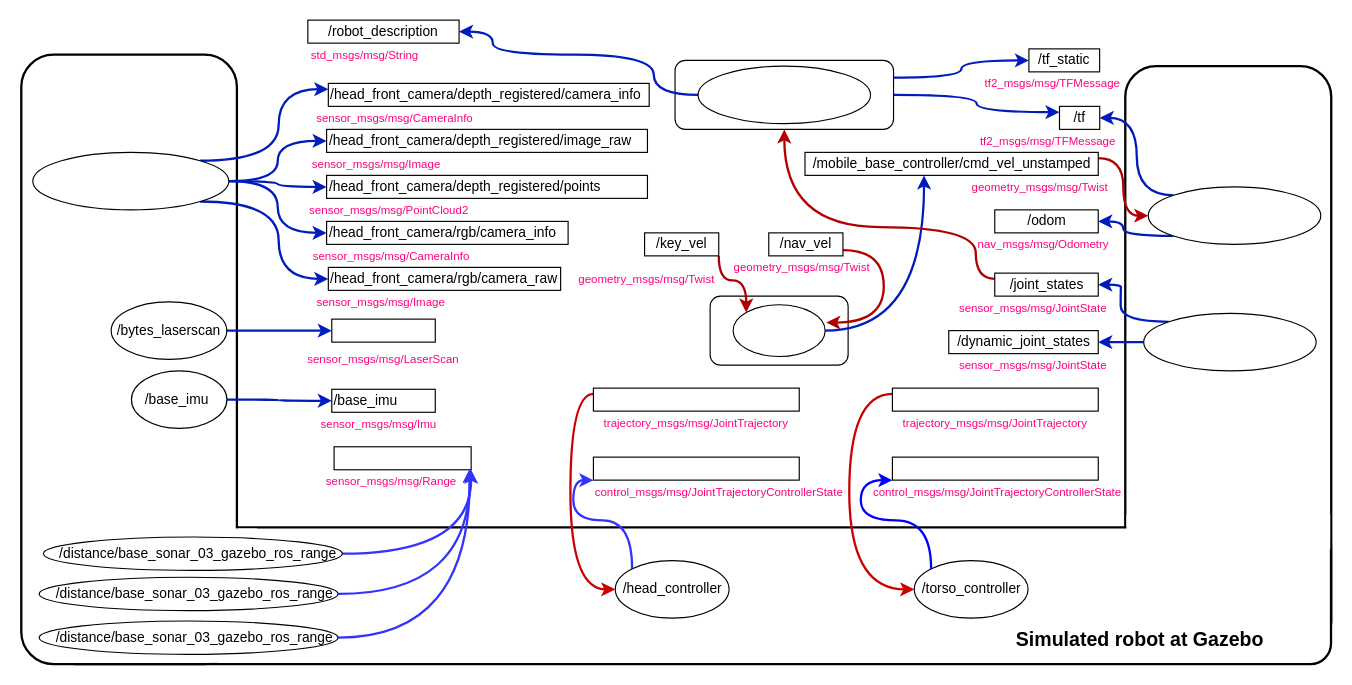
Some shapes in this 1352 by 685 pixel diagram are drawn without their labels. Each missing label, with the centre of its shape:
/ head_front_ camera_frame_controller: the point at 130,180
/distance/sonar_base: the point at 402,458
/head_controller/joint_trajectory: the point at 695,399
/head_controller/state: the point at 695,468
/joint_state_broadcaster: the point at 1229,341
/mobile_base_controller: the point at 1234,215
/robot_state_publisher: the point at 784,94
/scan_raw: the point at 383,330
/torso_controller/joint_trajectory: the point at 994,399
/torso_controller/state: the point at 994,468
/twist_mux: the point at 778,330
